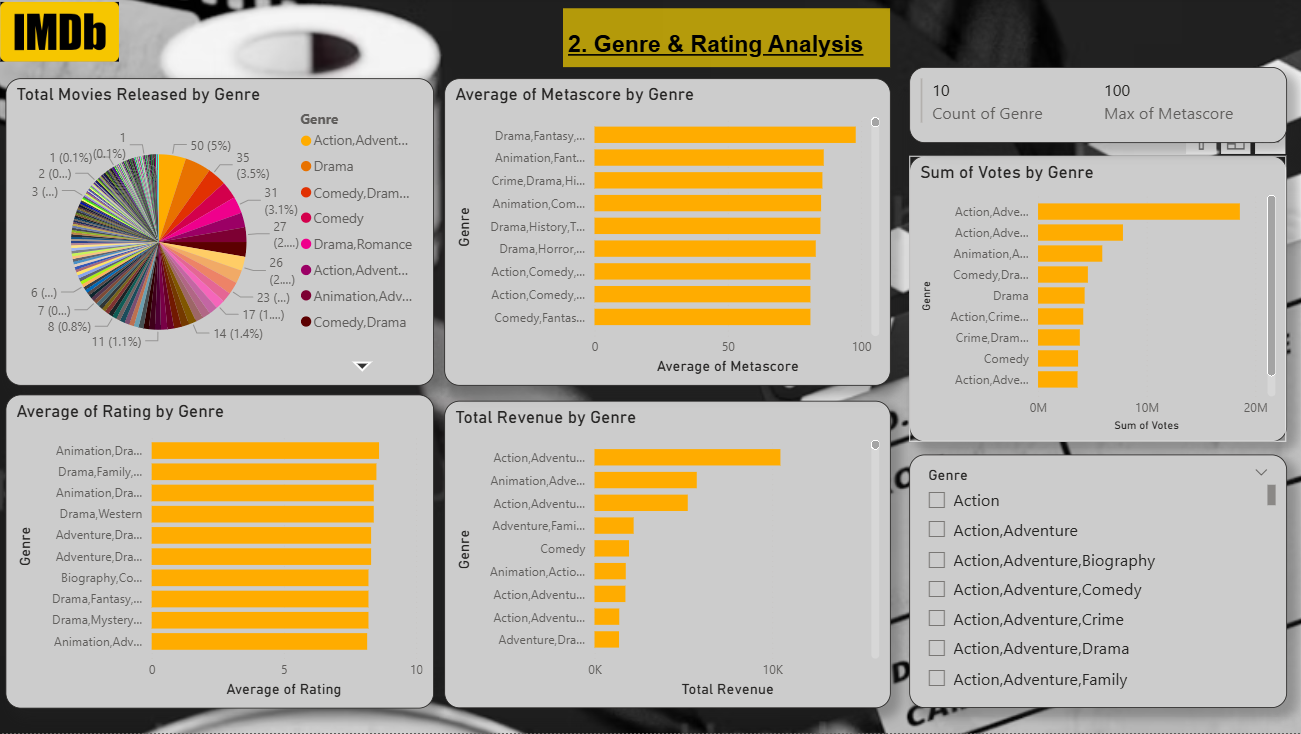

Layout of this report page (visuals, bound fields, positions):
{"tool":"powerbi","page":{"name":"Page 2","canvas":[1280,720],"ordinal":1},"visuals":[{"type":"pieChart","fields":{"Category":["IMDB-Movie-Data.Genre"],"Y":["IMDB-Movie-Data.Total Movies Released"]},"box":[12.2,79.5,419.4,300.8],"z":0},{"type":"clusteredBarChart","fields":{"Category":["IMDB-Movie-Data.Genre"],"Y":["Avg(IMDB-Movie-Data.Rating)"]},"box":[12.2,388.9,419.4,306.9],"z":1000},{"type":"clusteredBarChart","fields":{"Category":["IMDB-Movie-Data.Genre"],"Y":["IMDB-Movie-Data.Total Revenue"]},"box":[441.4,395,436.6,300.8],"z":2000},{"type":"clusteredBarChart","fields":{"Category":["IMDB-Movie-Data.Genre"],"Y":["Avg(IMDB-Movie-Data.Metascore)"]},"box":[441.4,79.5,436.6,300.8],"z":3000},{"type":"clusteredBarChart","fields":{"Category":["IMDB-Movie-Data.Genre"],"Y":["Sum(IMDB-Movie-Data.Votes)"]},"box":[896.3,155.3,369.3,280],"z":4000},{"type":"multiRowCard","fields":{"Values":["Count(IMDB-Movie-Data.Genre)","Max(IMDB-Movie-Data.Metascore)"]},"box":[896.3,68.5,369.3,74.6],"z":5000},{"type":"textbox","box":[557.5,11.2,320,57.5],"z":6000},{"type":"slicer","fields":{"Values":["IMDB-Movie-Data.Genre"]},"box":[896.3,447.6,369.3,248.2],"z":7000},{"type":"image","box":[0,0,129.6,68.5],"z":8000}]}

Visuals, with their boxes in screenshot pixels (x1, y1, x2, y2), scaled from the page's 1280x720 canvas onto the 1301x734 screenshot:
pieChart - IMDB-Movie-Data.Genre x IMDB-Movie-Data.Total Movies Released: BBox(12, 81, 439, 388)
clusteredBarChart - IMDB-Movie-Data.Genre x Avg(IMDB-Movie-Data.Rating): BBox(12, 396, 439, 709)
clusteredBarChart - IMDB-Movie-Data.Genre x IMDB-Movie-Data.Total Revenue: BBox(449, 403, 892, 709)
clusteredBarChart - IMDB-Movie-Data.Genre x Avg(IMDB-Movie-Data.Metascore): BBox(449, 81, 892, 388)
clusteredBarChart - IMDB-Movie-Data.Genre x Sum(IMDB-Movie-Data.Votes): BBox(911, 158, 1286, 444)
multiRowCard - Count(IMDB-Movie-Data.Genre) x Max(IMDB-Movie-Data.Metascore): BBox(911, 70, 1286, 146)
textbox: BBox(567, 11, 892, 70)
slicer - IMDB-Movie-Data.Genre: BBox(911, 456, 1286, 709)
image: BBox(0, 0, 132, 70)
